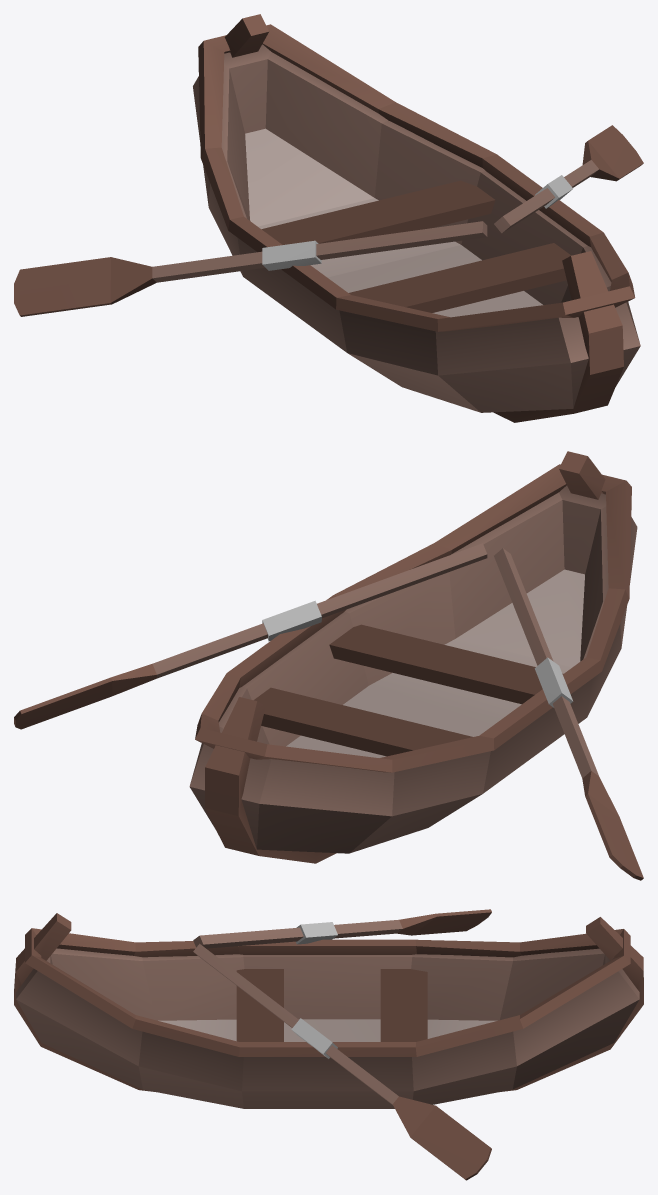
Rendered from village_rowboat_001.glb.
3 views of the same model, one above another, from view 1: azimuth 30°, elevation 25°; view 2: azimuth 150°, elevation 25°; view 3: azimuth 270°, elevation 25° (orthographic). The views are drawn at different scales.
Parts seen in each view (by area): view 1: props_027; view 2: props_027; view 3: props_027.
Part boxes in pixels (bbox=[...]): props_027: bbox=[14, 14, 643, 422]; props_027: bbox=[14, 451, 643, 880]; props_027: bbox=[14, 909, 643, 1180].
Size of the model in its own units: 6.28 by 2.08 by 6.66.
Materials: 1 (1 with a texture image).
